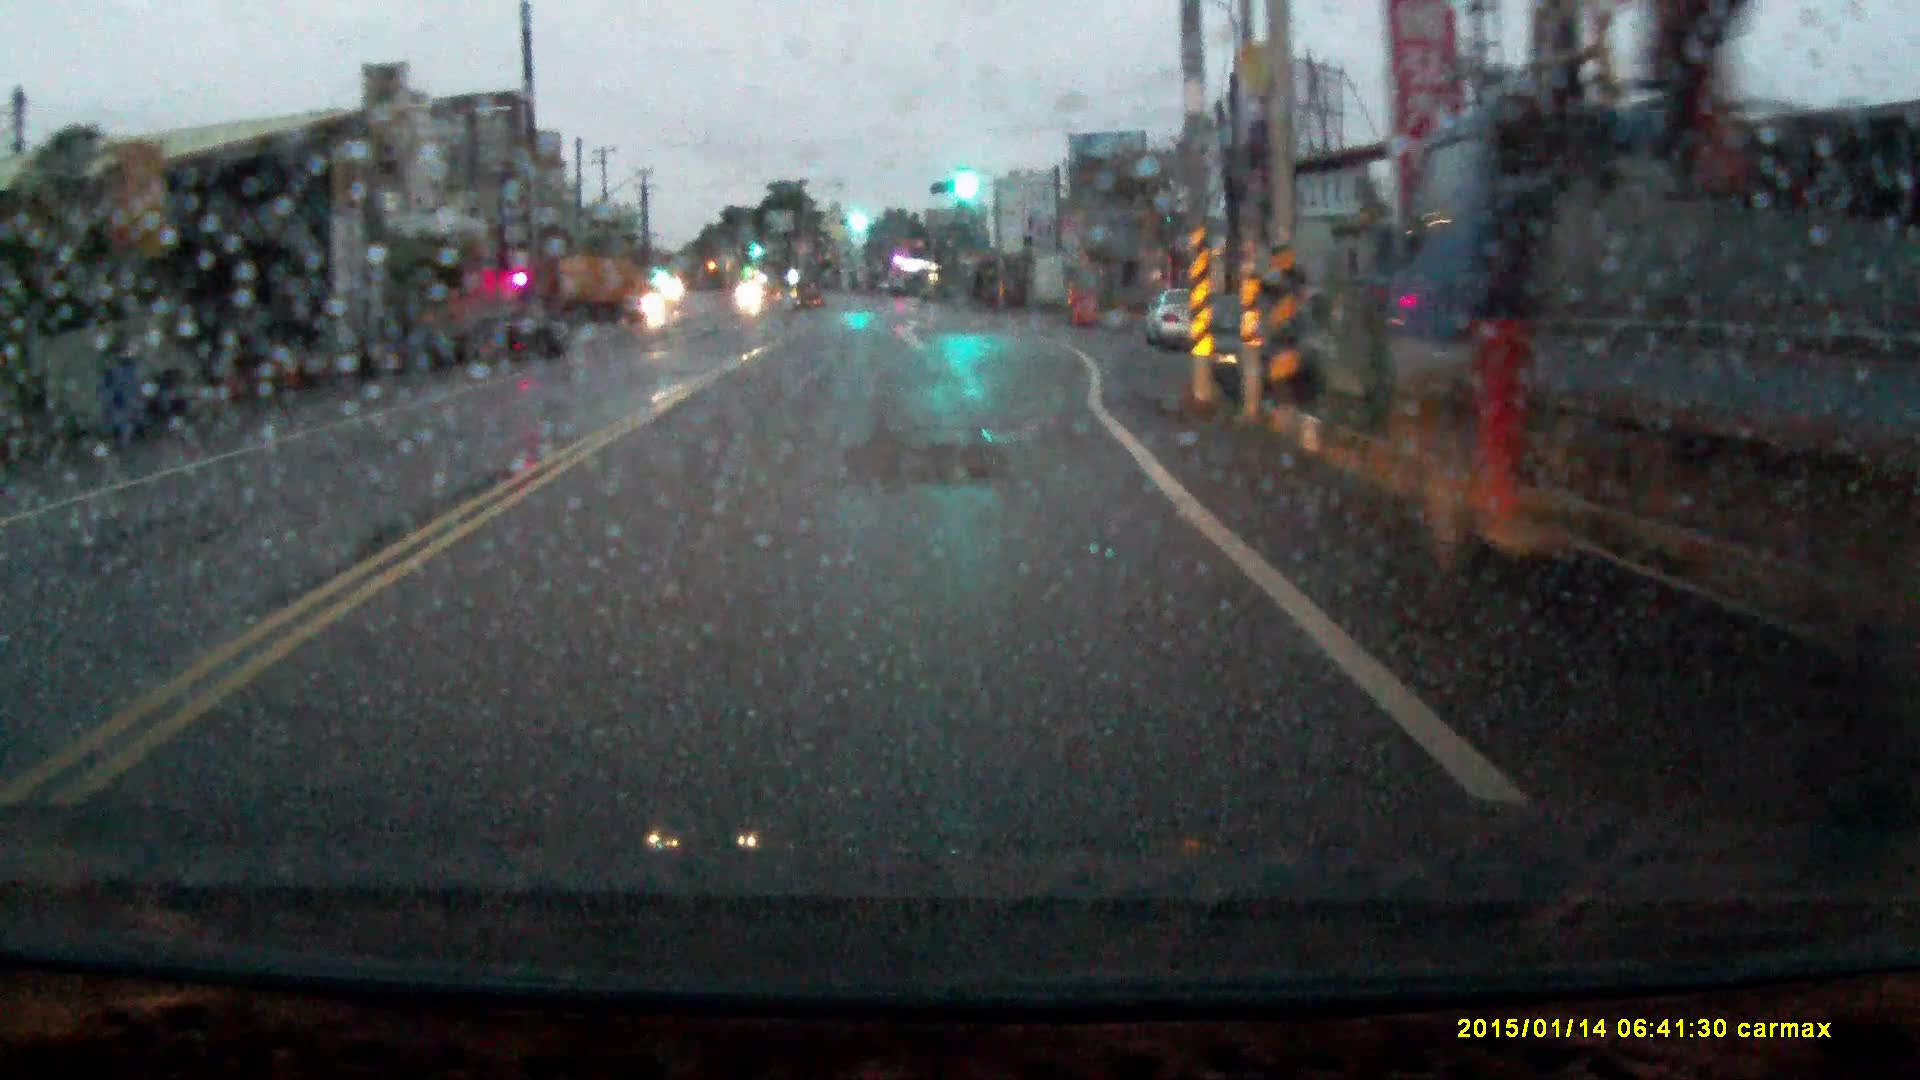vehicle: (1400, 92, 1920, 699), (527, 258, 647, 326), (471, 301, 574, 369)
